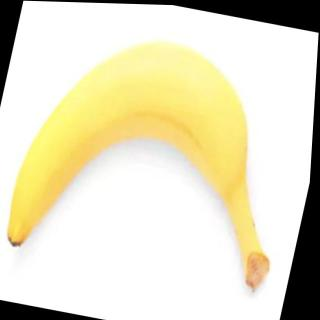banana: (1, 14, 274, 289)
